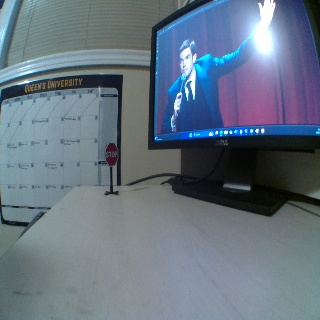sign_stop: (104, 141, 119, 165)
